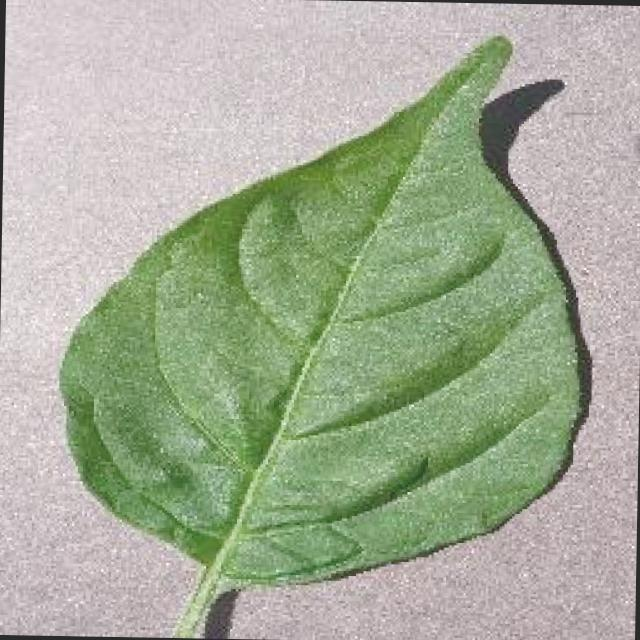Leaf: (23, 20, 605, 608)
